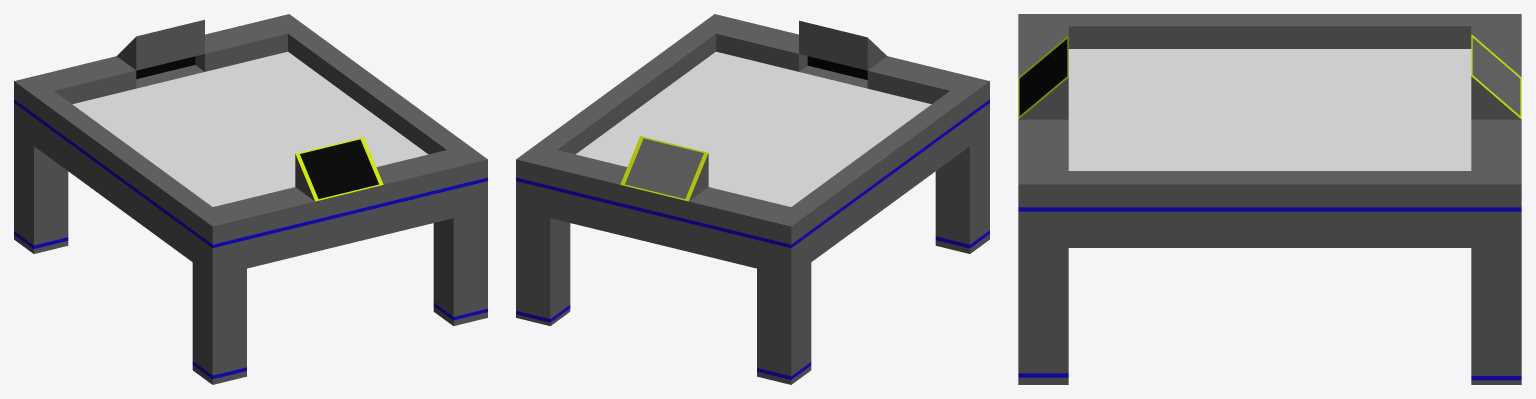
The model's file is game-table.fbx.
3 renders of one model, left to right at view 1: azimuth 30°, elevation 25°; view 2: azimuth 150°, elevation 25°; view 3: azimuth 270°, elevation 25°, orthographic. The views are drawn at different scales.
Visible parts, largest first — view 1: Cube; view 2: Cube; view 3: Cube.
Part boxes in pixels (bbox=[...]): Cube: bbox=[14, 14, 487, 384]; Cube: bbox=[516, 14, 989, 384]; Cube: bbox=[1018, 14, 1521, 384].
Size of the model in its own units: 800 by 535 by 1000.
